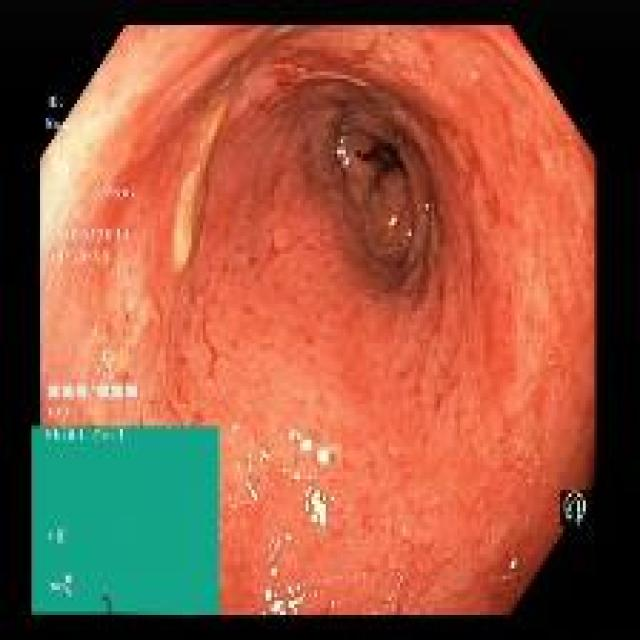ulcerative-colitis: (42, 27, 595, 615)
